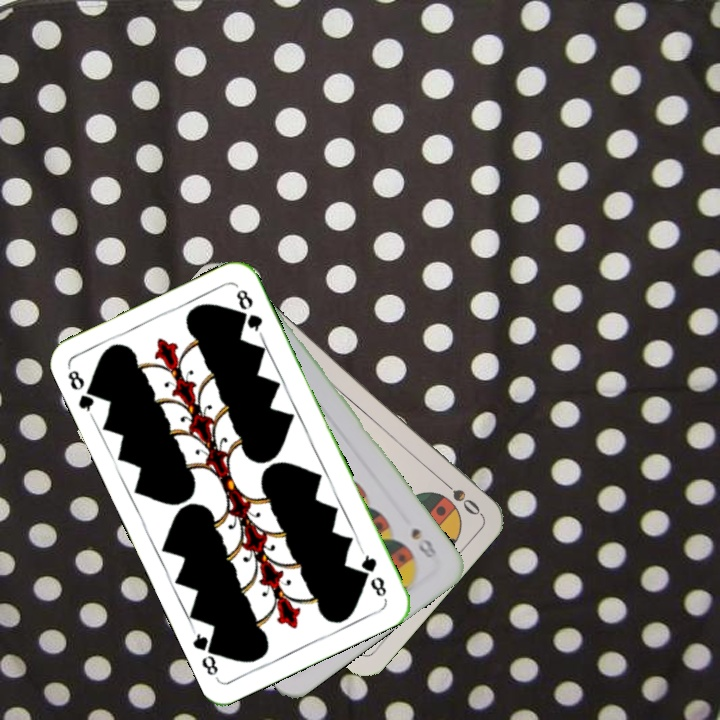G8: (63, 364, 102, 420), (357, 546, 389, 600)
S8: (407, 523, 440, 561)
SO: (435, 473, 483, 518)
